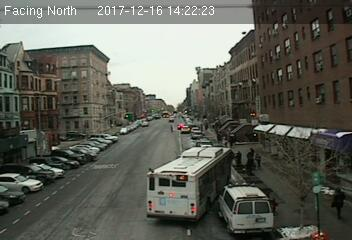bus: (143, 144, 234, 224)
car: (181, 125, 190, 135)
pedestrian: (255, 152, 263, 168)
police: (218, 183, 276, 235)
